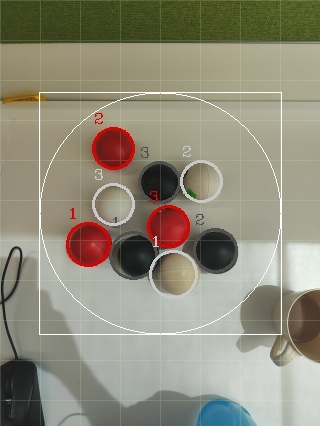Pelota blanca: (287, 286, 320, 365), (148, 249, 201, 296), (90, 182, 137, 227), (180, 158, 225, 203), (268, 334, 297, 368), (55, 411, 94, 425)
Pelota negra: (0, 358, 44, 425), (108, 230, 158, 280), (193, 225, 238, 275), (137, 158, 179, 203), (196, 398, 259, 425)
Pelota roja: (63, 220, 113, 267), (90, 124, 137, 171), (145, 204, 190, 248)
